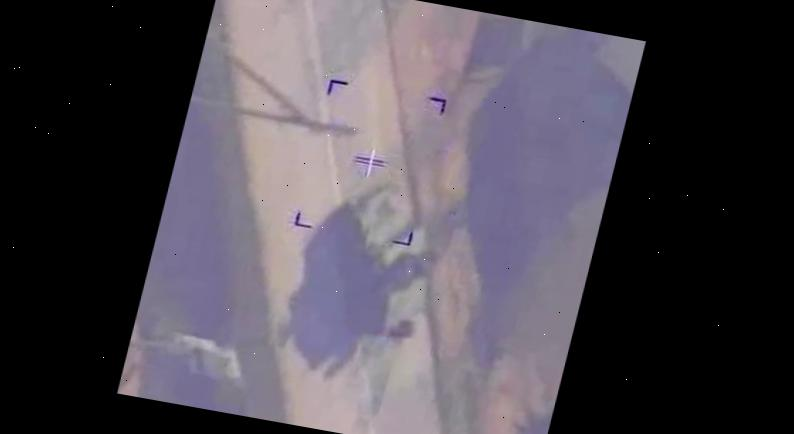armored_car: (306, 172, 457, 344)
